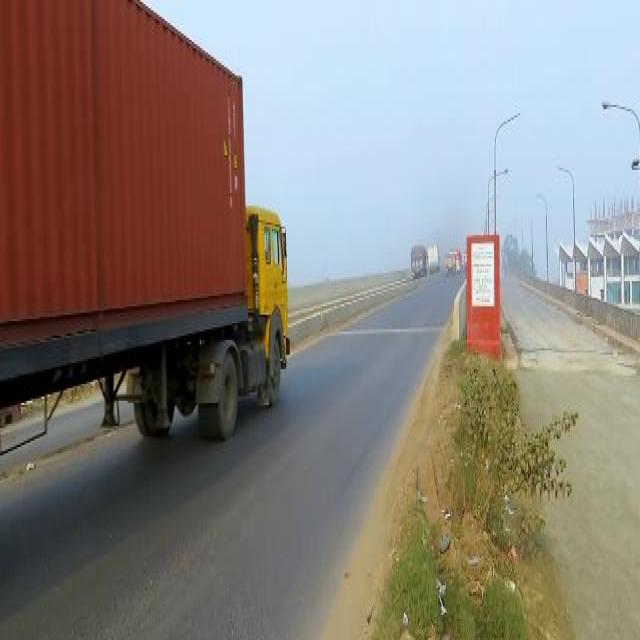truck: (1, 2, 289, 437), (410, 244, 424, 274), (444, 250, 456, 272)
